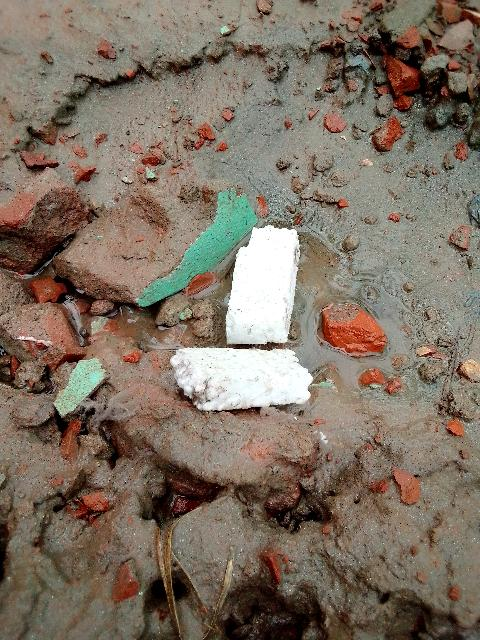cocksheet: (165, 207, 333, 425)
